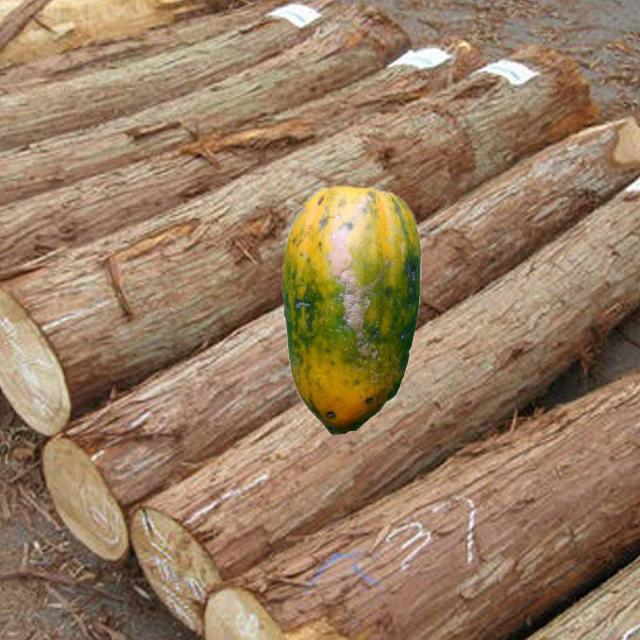Pepaya rippen: (276, 174, 416, 432)
